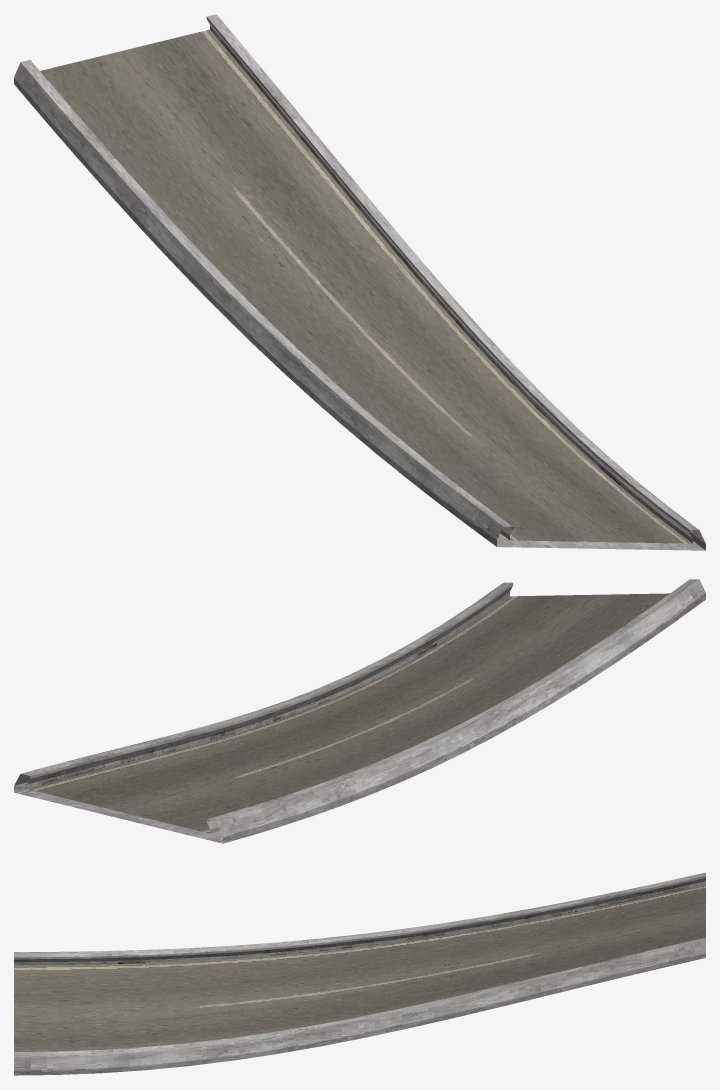
File: road-Straight-HalfBankedRight-BiSlopeUp-Up3-Center-Size4.glb
The picture shows the model from 3 angles, top to bottom: view 1: azimuth 30°, elevation 25°; view 2: azimuth 150°, elevation 25°; view 3: azimuth 270°, elevation 25°; orthographic projection. The views are drawn at different scales.
Visible parts, largest first — view 1: road-Straight-HalfBankedRight-BiSlopeUp-Up3-Center-Size4; view 2: road-Straight-HalfBankedRight-BiSlopeUp-Up3-Center-Size4; view 3: road-Straight-HalfBankedRight-BiSlopeUp-Up3-Center-Size4.
Boxes of the visible parts, box(x1,y1,x2,y2) form: road-Straight-HalfBankedRight-BiSlopeUp-Up3-Center-Size4: box(14, 14, 705, 550); road-Straight-HalfBankedRight-BiSlopeUp-Up3-Center-Size4: box(14, 579, 705, 843); road-Straight-HalfBankedRight-BiSlopeUp-Up3-Center-Size4: box(14, 872, 705, 1075).
Size of the model in its own units: 1 by 0.8437 by 4.
Materials: 2 (2 with a texture image).
